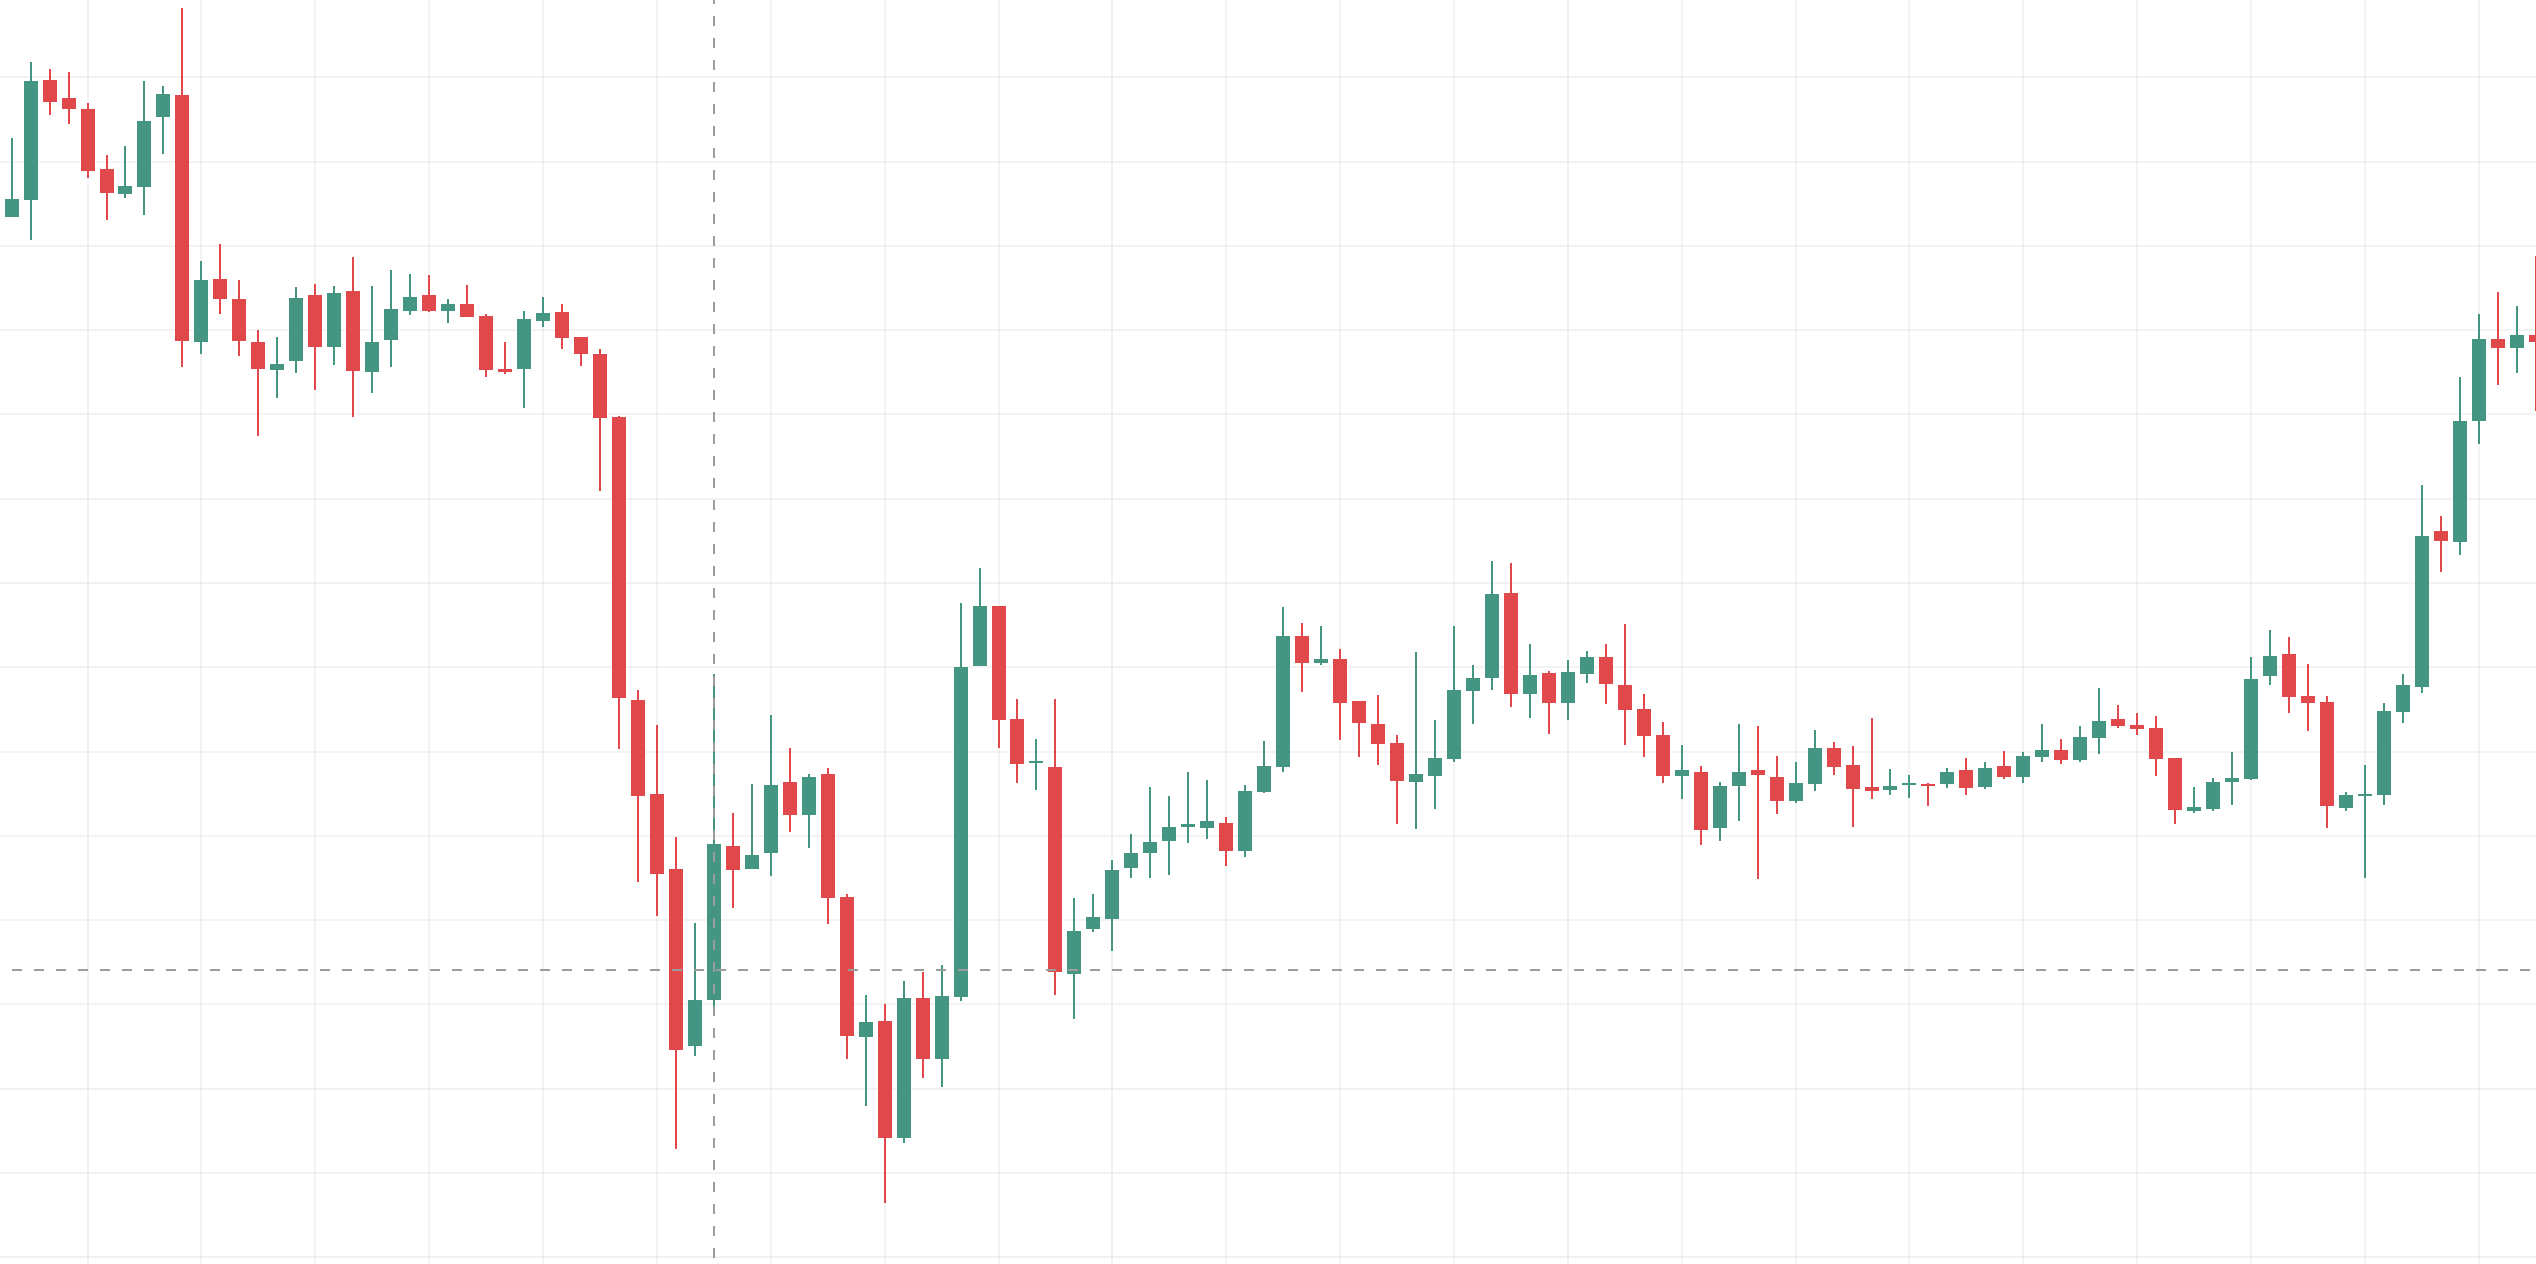V-turn: (756, 525, 1000, 1213)
